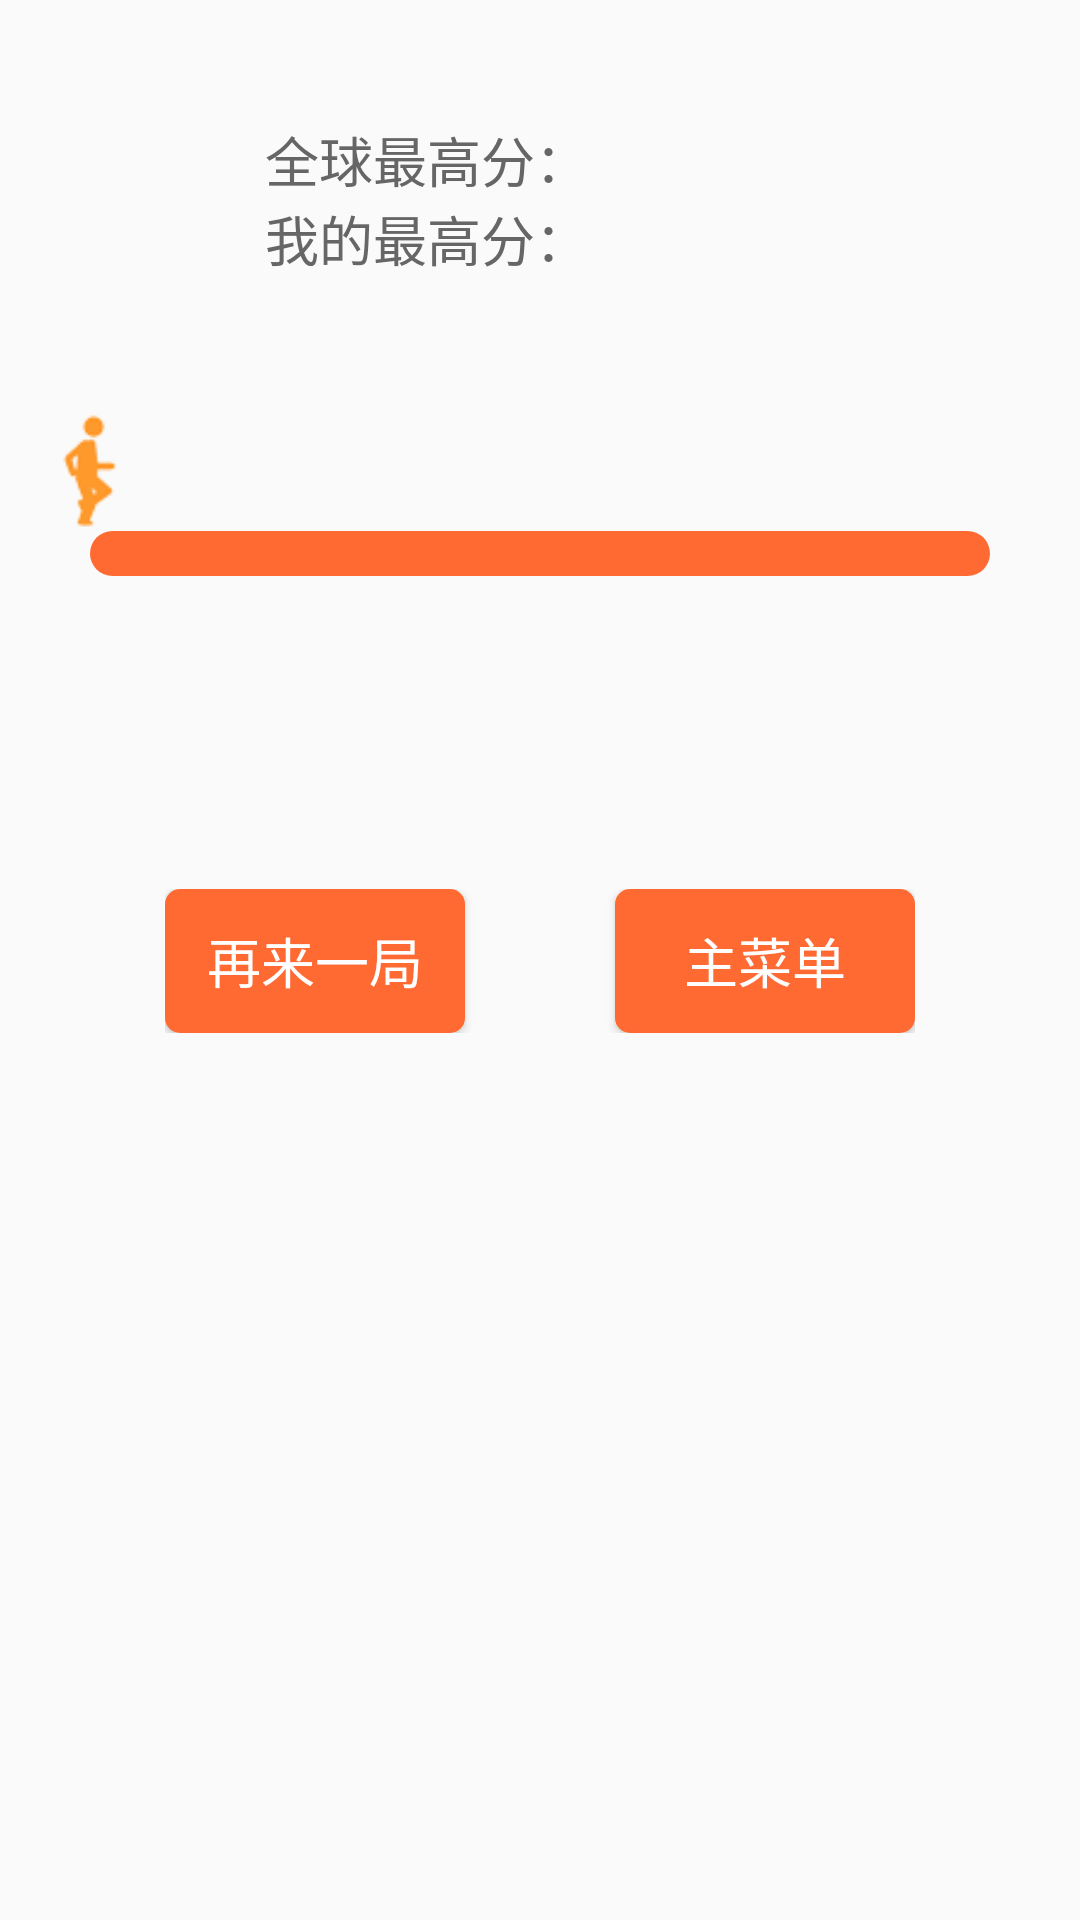

Icons on this 1080w x 1920h Android screen, each with the point to tap as point (x, y):
running man: point (89, 471)
